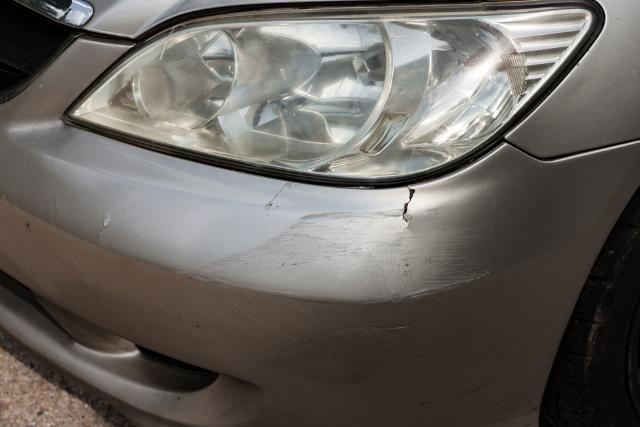Bumper: (198, 165, 517, 356)
